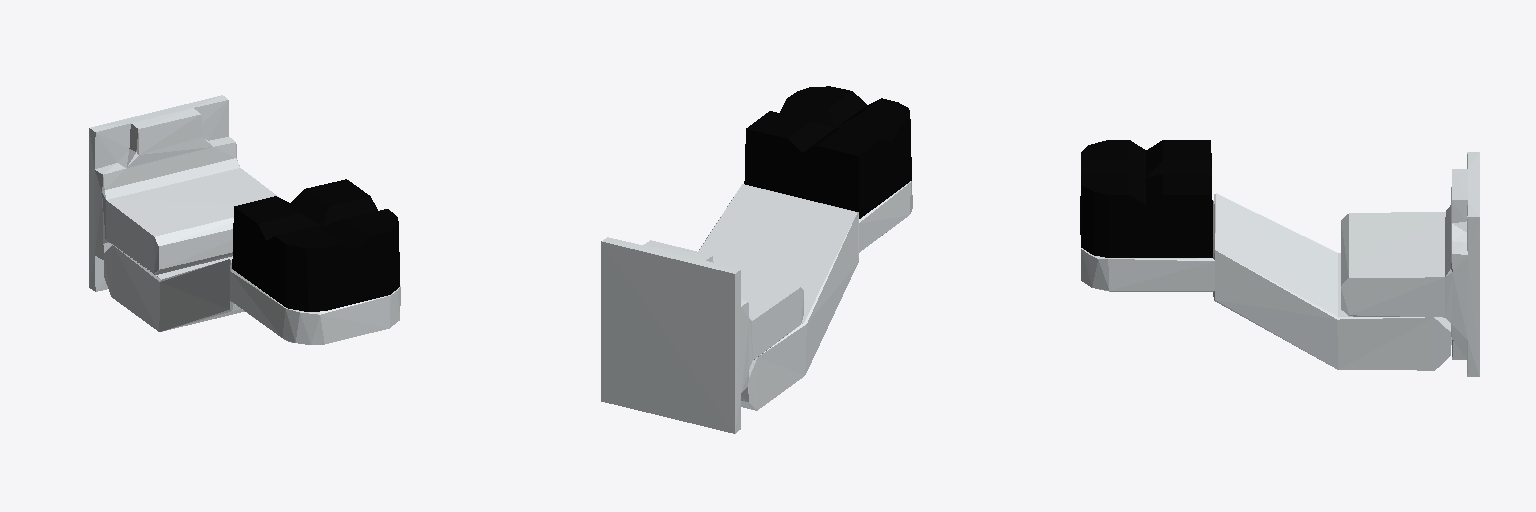
Rendered from panda_rightfinger.obj.
3 views of the same model, side by side, from view 1: azimuth 30°, elevation 25°; view 2: azimuth 150°, elevation 25°; view 3: azimuth 270°, elevation 25° (orthographic).
Parts seen in each view (by area): view 1: finger; view 2: finger; view 3: finger.
Boxes of the visible parts, <box> form: finger: <box>89,95,400,344</box>; finger: <box>601,86,912,433</box>; finger: <box>1080,140,1479,376</box>.
Bounding box in the file's own units: 0.021 × 0.0264 × 0.0538.